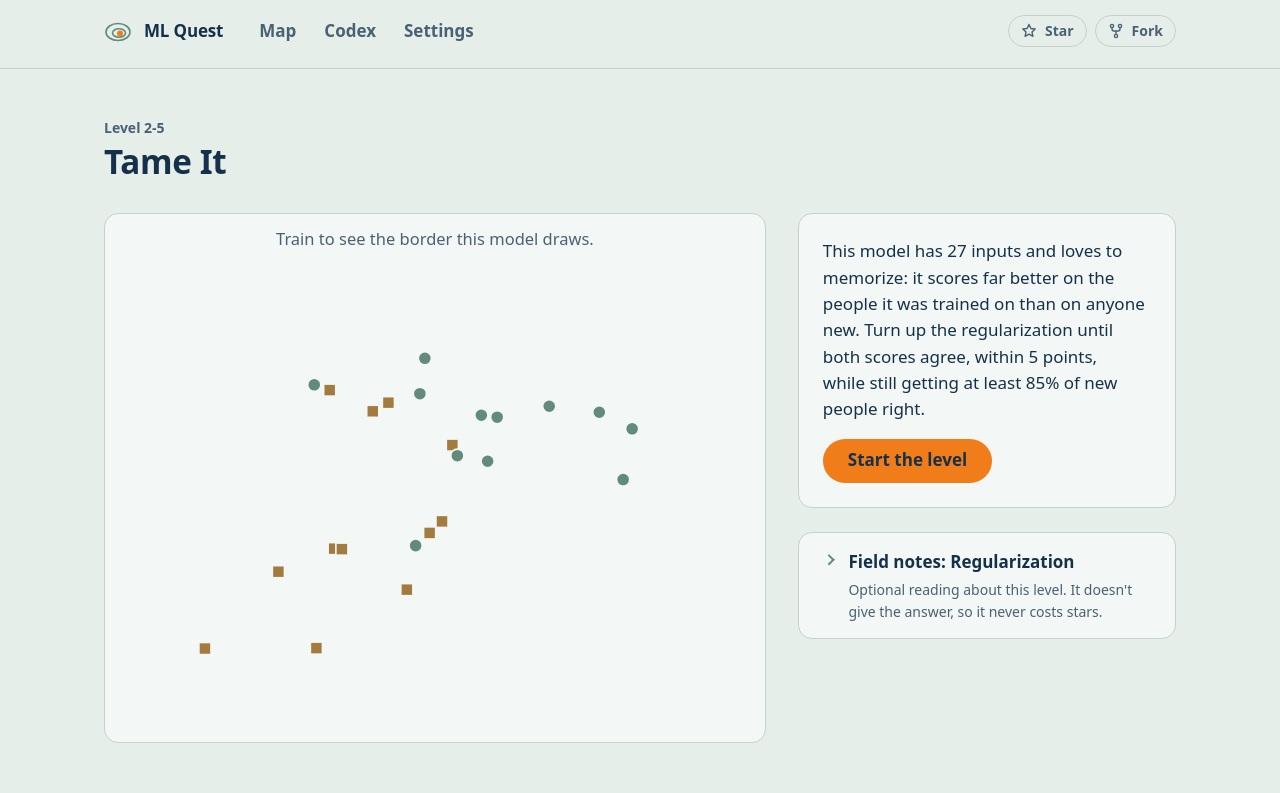
Test: App › offers optional Field notes on a level, closed until opened, at no cost
Click the text "Field notes: Regularization" at (961, 561), box [848,550,1074,573]
(page scrolled)
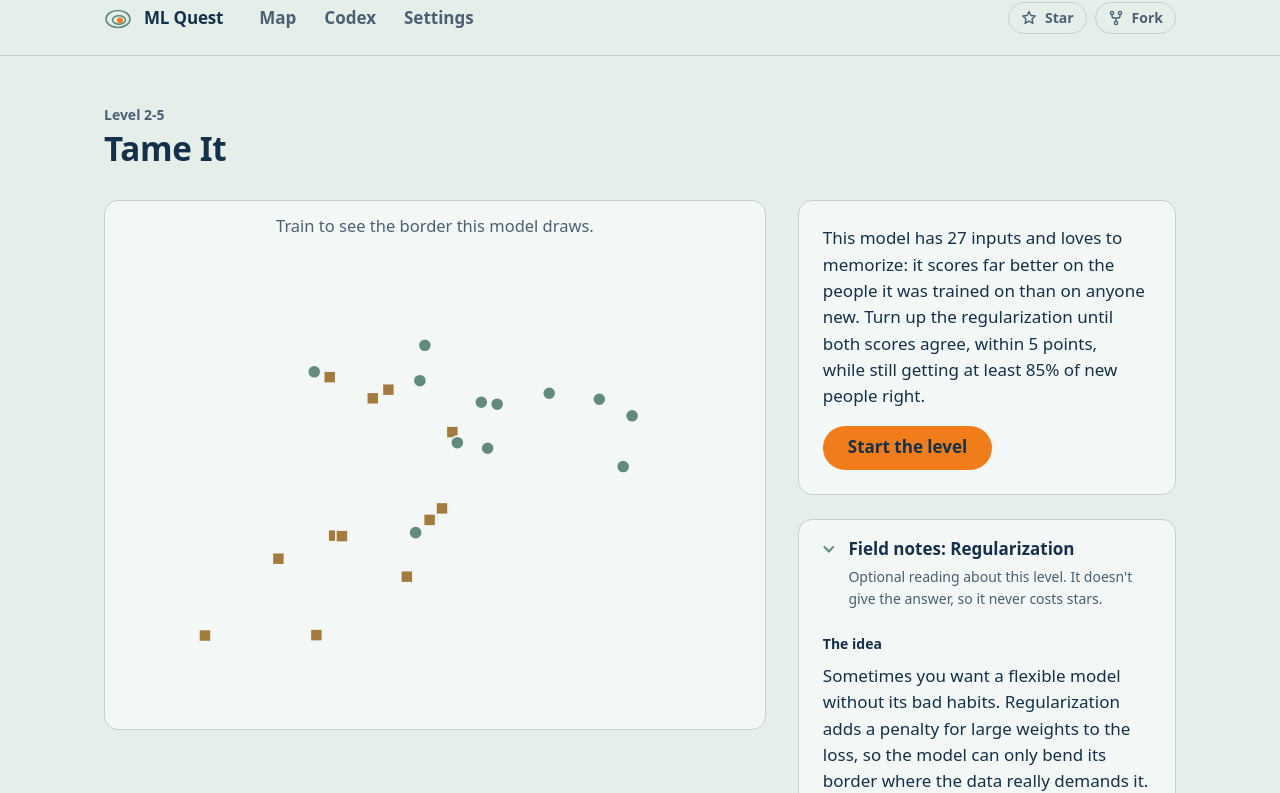
Click the button "Start the level" at (907, 448), box [823,426,992,470]
(page scrolled)
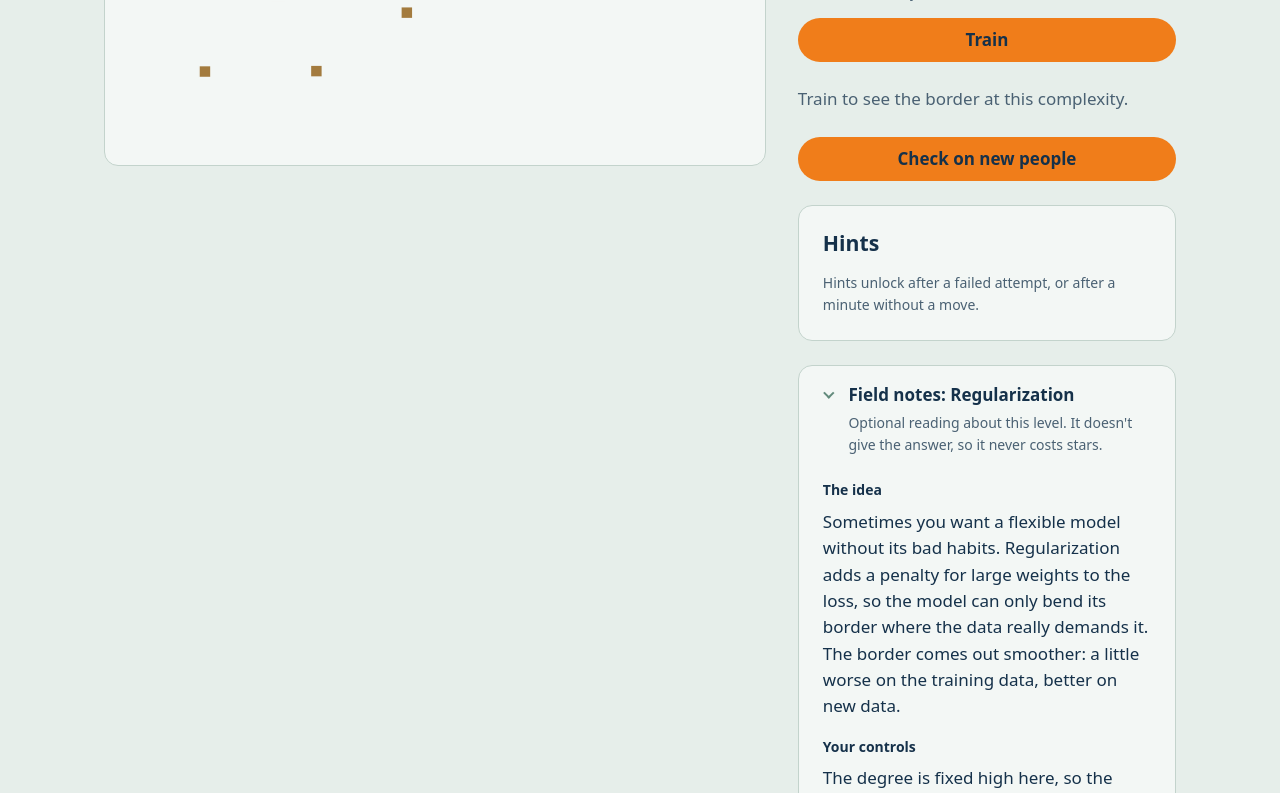
Expected: the text "Field notes: Regularization" is shown, [848,383,1074,406]
Now the text "Hints unlock after a failed attempt, or after a minute without a move." is shown, box [823,272,1151,316]
